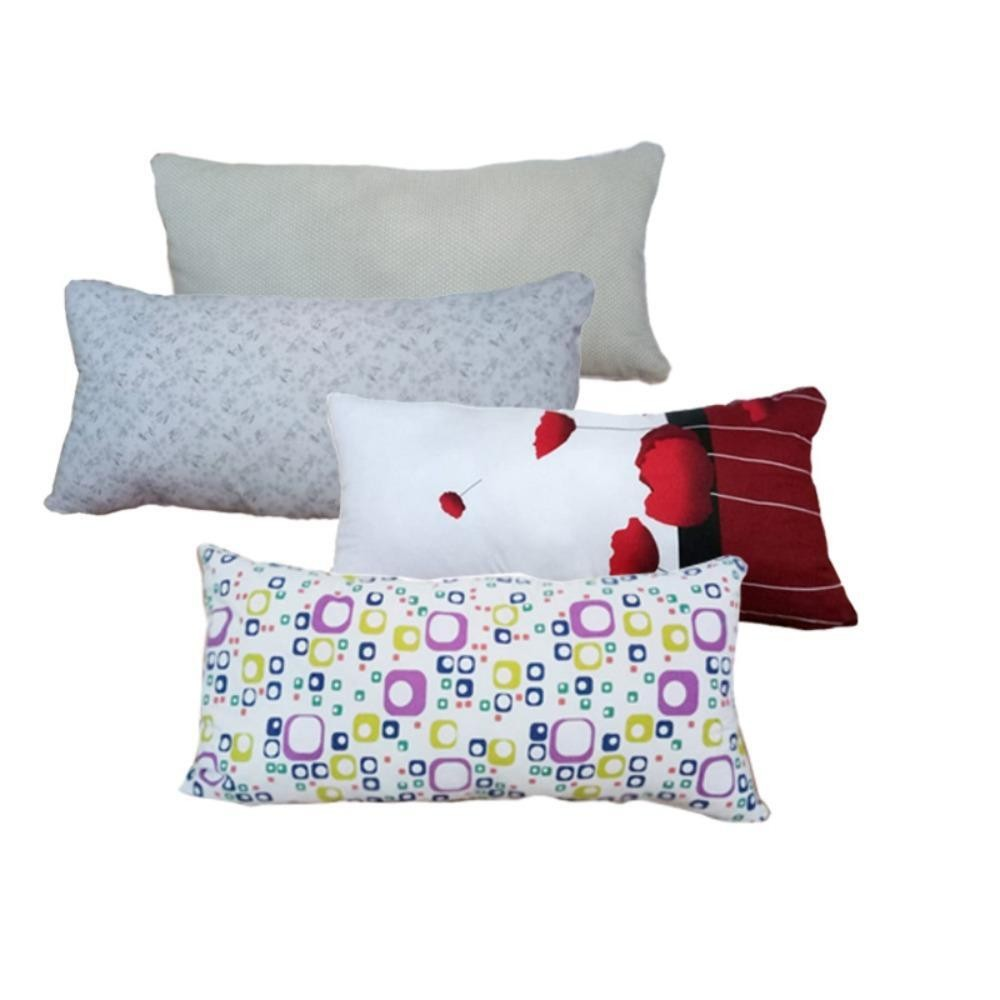bantal: (178, 531, 774, 848), (52, 280, 585, 517), (323, 394, 833, 596), (150, 154, 656, 291)
